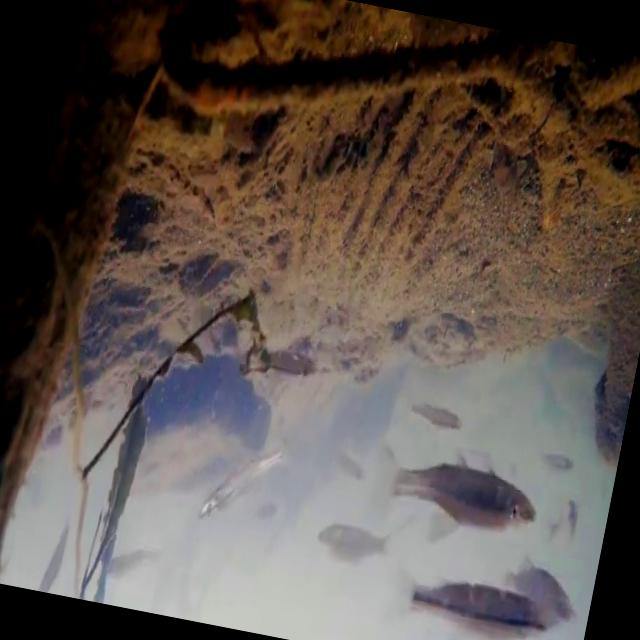Cakil Baligi: (390, 448, 546, 538), (402, 568, 550, 640)
